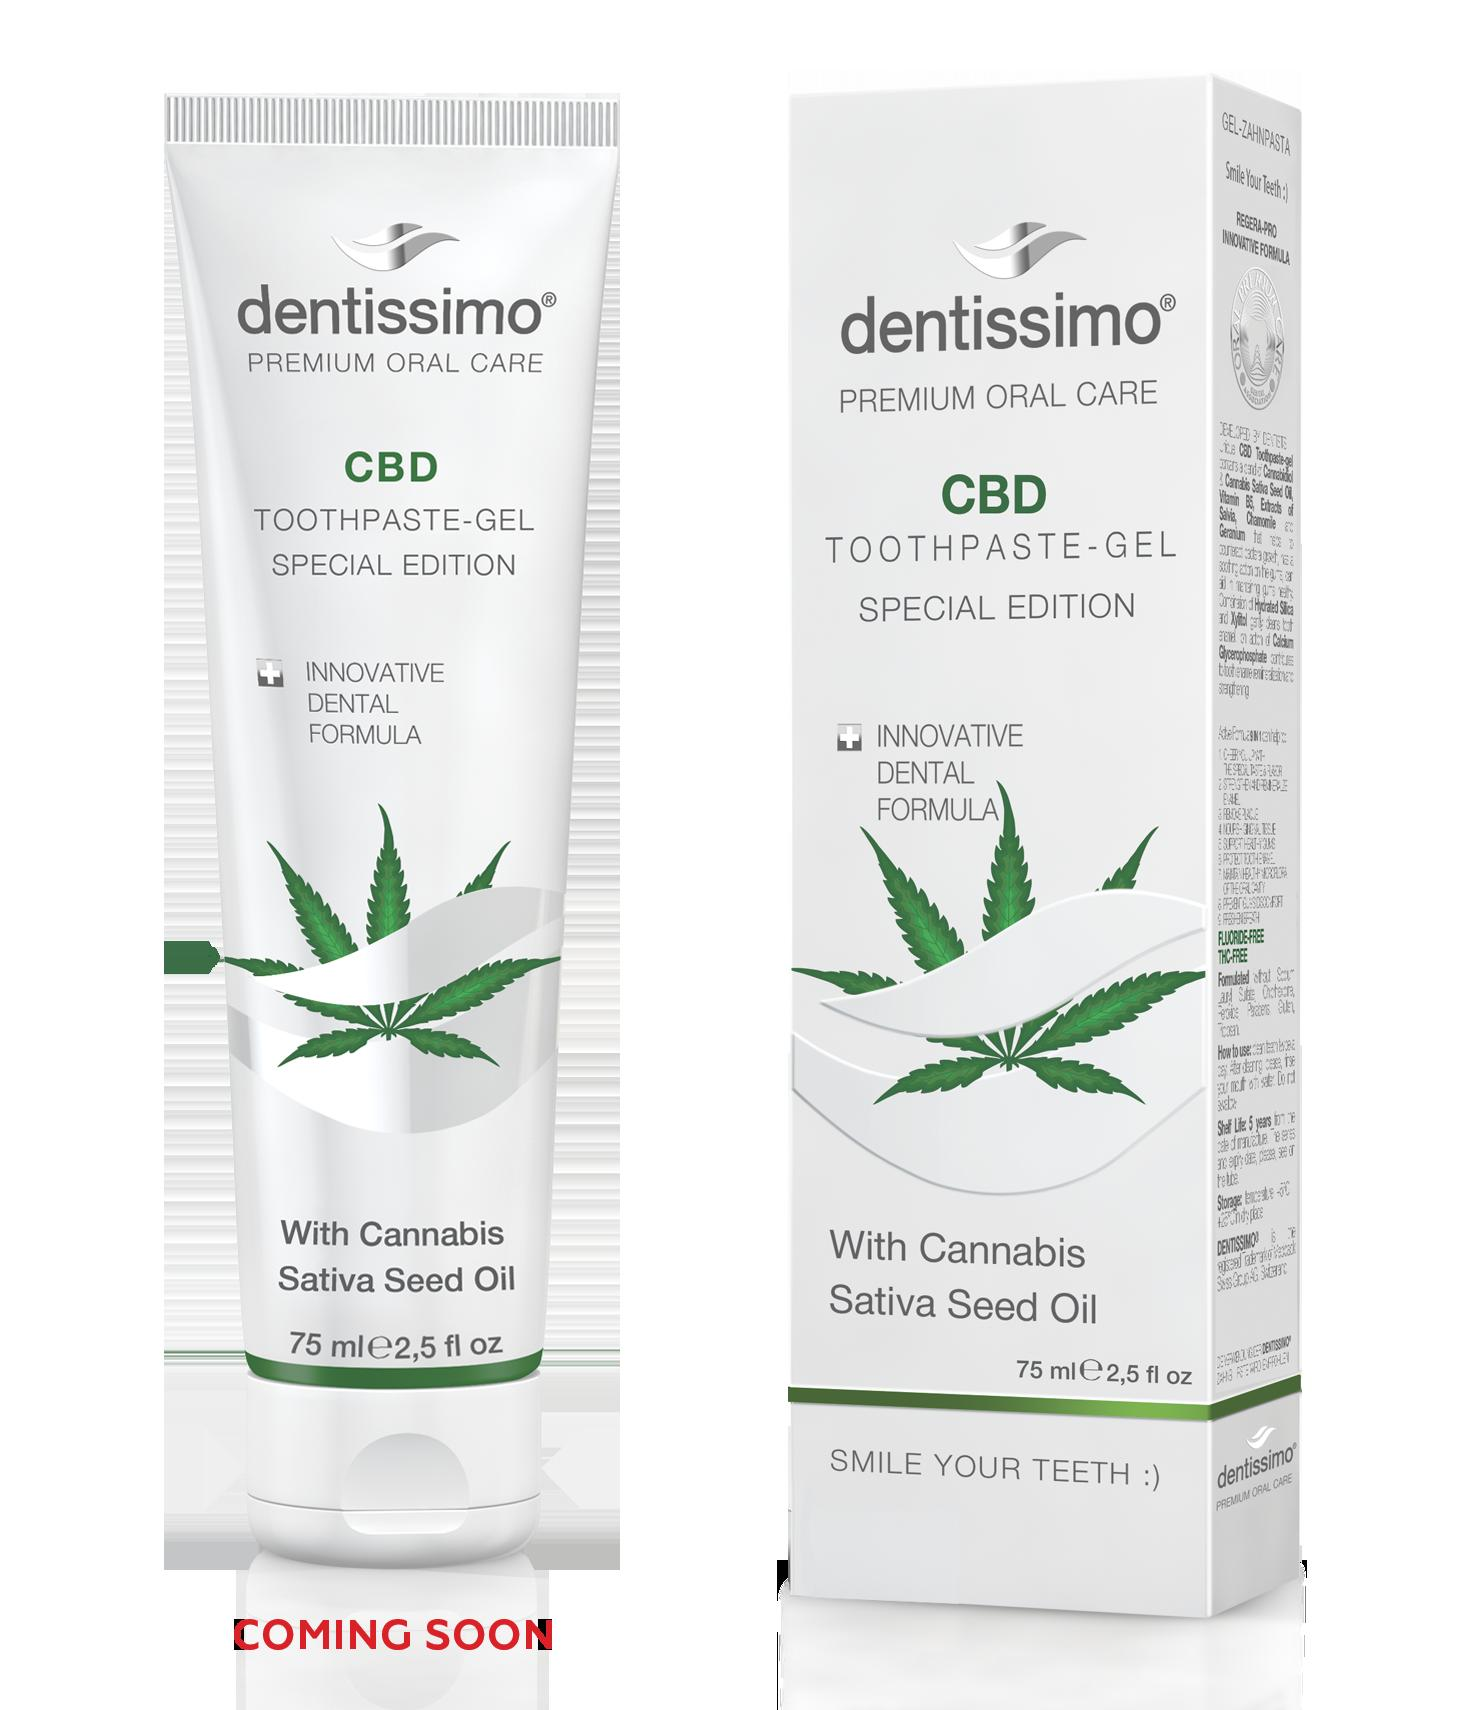toothpaste: (778, 68, 1322, 1629), (135, 68, 656, 1586)
